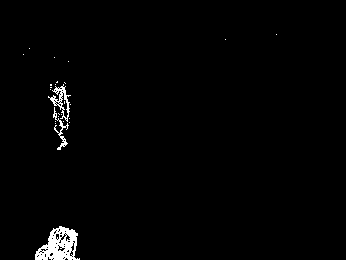person: (45, 80, 73, 151)
